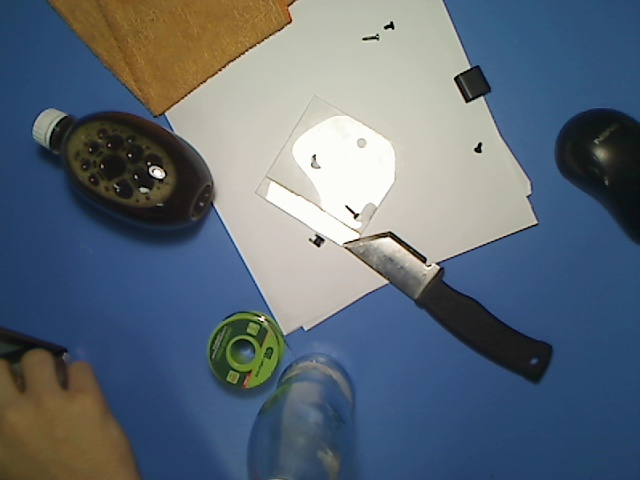plast_bottle: (26, 97, 221, 236)
